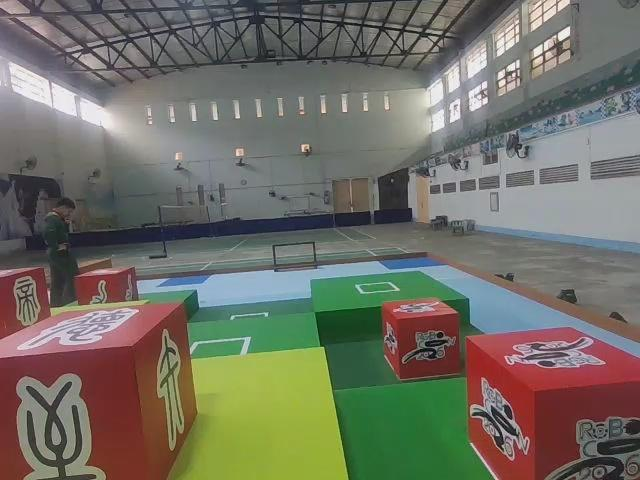R1: (462, 323, 640, 480), (377, 295, 464, 382)
R2 Fake: (0, 299, 201, 480), (0, 261, 53, 342)
R2 Real: (71, 264, 141, 308)
